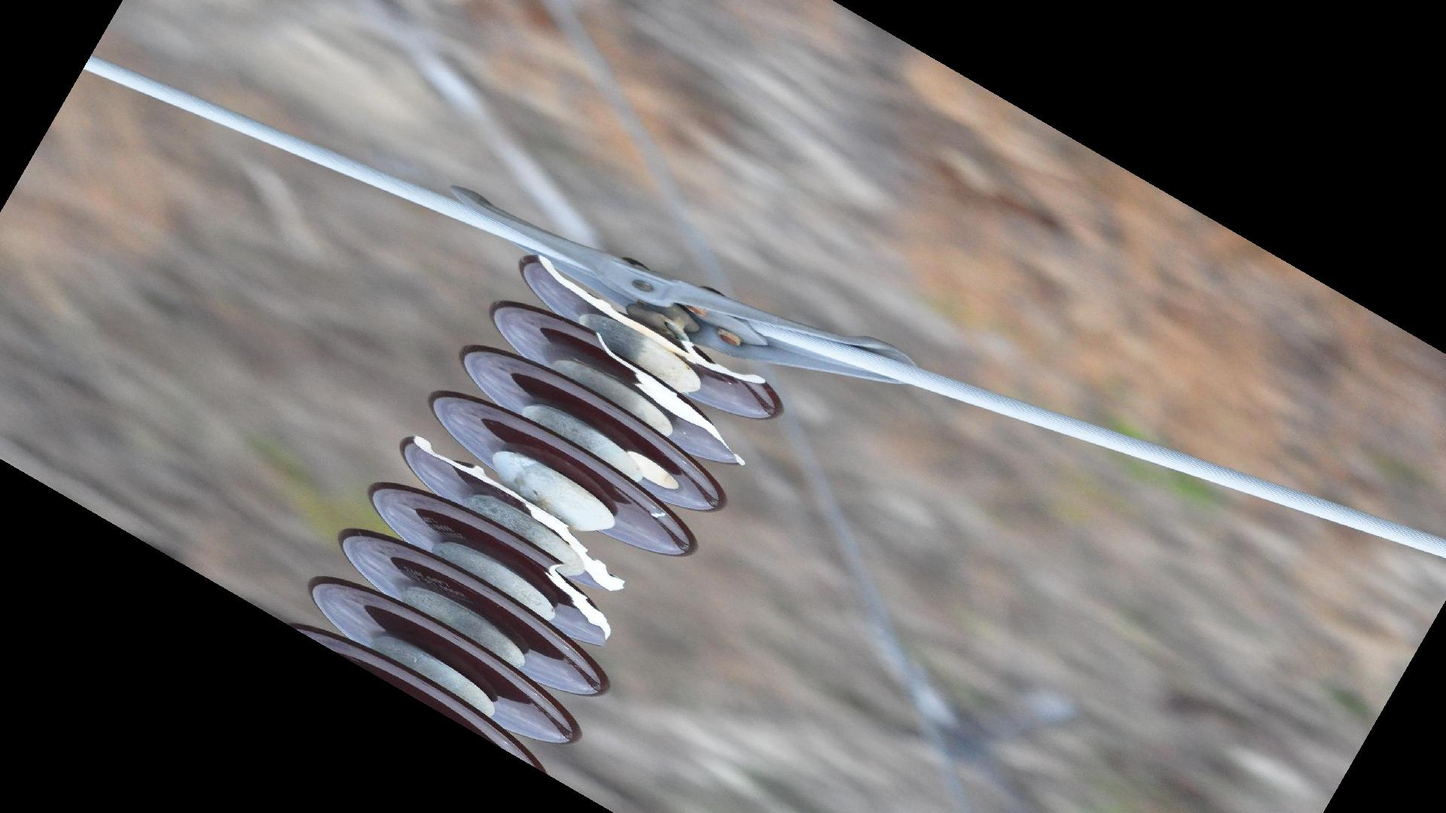insulator: (285, 246, 789, 779)
insulator_breakage: (402, 428, 633, 600), (529, 247, 773, 397), (583, 323, 752, 477), (537, 550, 621, 650)
